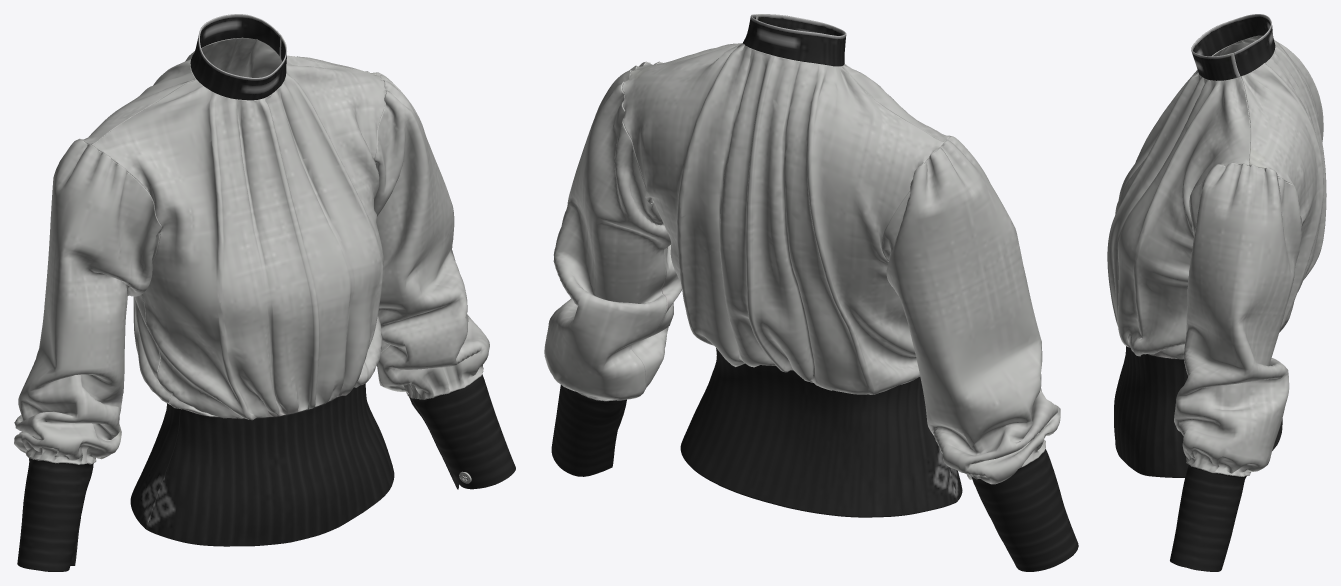
File: blouse.glb
The picture shows the model from 3 angles, left to right: view 1: azimuth 30°, elevation 25°; view 2: azimuth 150°, elevation 25°; view 3: azimuth 270°, elevation 25°; orthographic projection. The views are drawn at different scales.
Parts seen in each view (by area): view 1: FO_001_Oversized-sweater_FABRIC_1_FRONT_3915_010_0; view 2: FO_001_Oversized-sweater_FABRIC_1_FRONT_3915_010_0; view 3: FO_001_Oversized-sweater_FABRIC_1_FRONT_3915_010_0.
Part boxes in pixels (box(x1,y1,x2,y2)): FO_001_Oversized-sweater_FABRIC_1_FRONT_3915_010_0: box(14, 14, 515, 571); FO_001_Oversized-sweater_FABRIC_1_FRONT_3915_010_0: box(544, 14, 1078, 571); FO_001_Oversized-sweater_FABRIC_1_FRONT_3915_010_0: box(1107, 14, 1326, 571).
Size of the model in its own units: 0.4815 by 0.4657 by 0.2053.
Materials: 1 (1 with a texture image).
